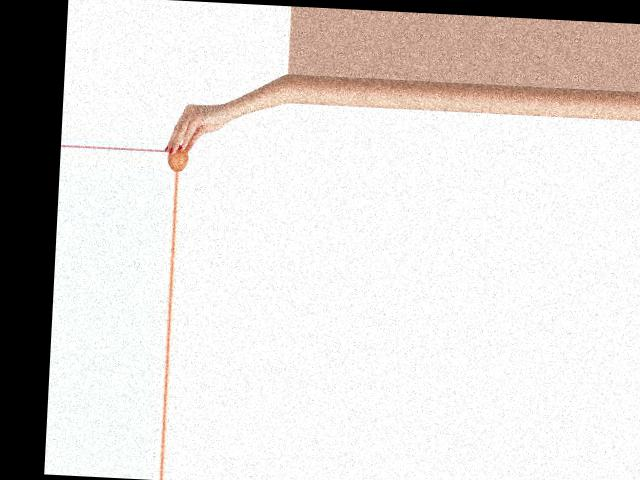egg: (167, 145, 189, 171)
